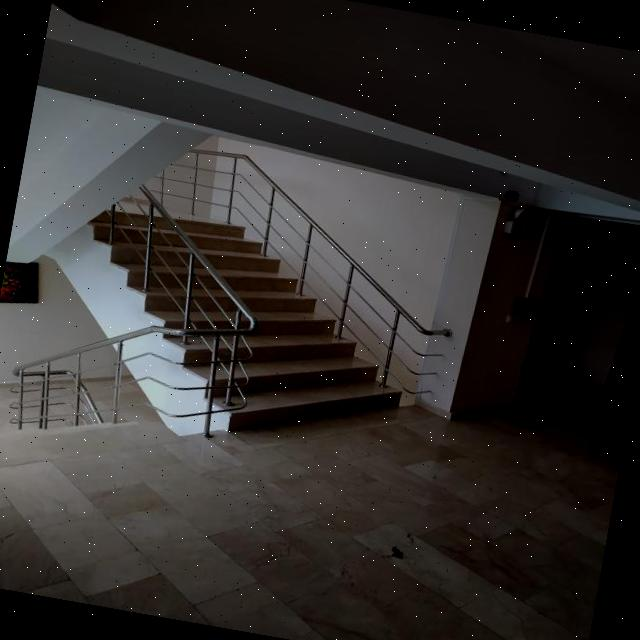stairs: (52, 190, 428, 464)
